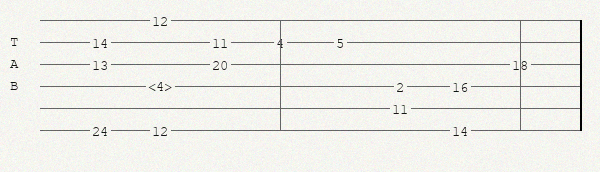11: (212, 36, 232, 49), (392, 102, 412, 115)
12: (152, 124, 172, 137), (152, 14, 172, 27)
13: (92, 58, 112, 71)
14: (92, 36, 112, 49), (452, 124, 472, 137)
16: (452, 80, 472, 93)
18: (512, 58, 532, 71)
2: (396, 80, 408, 93)
20: (212, 58, 232, 71)
24: (92, 124, 112, 137)
4: (276, 36, 288, 49)
5: (336, 36, 348, 49)
harmonic: (148, 79, 176, 93)
